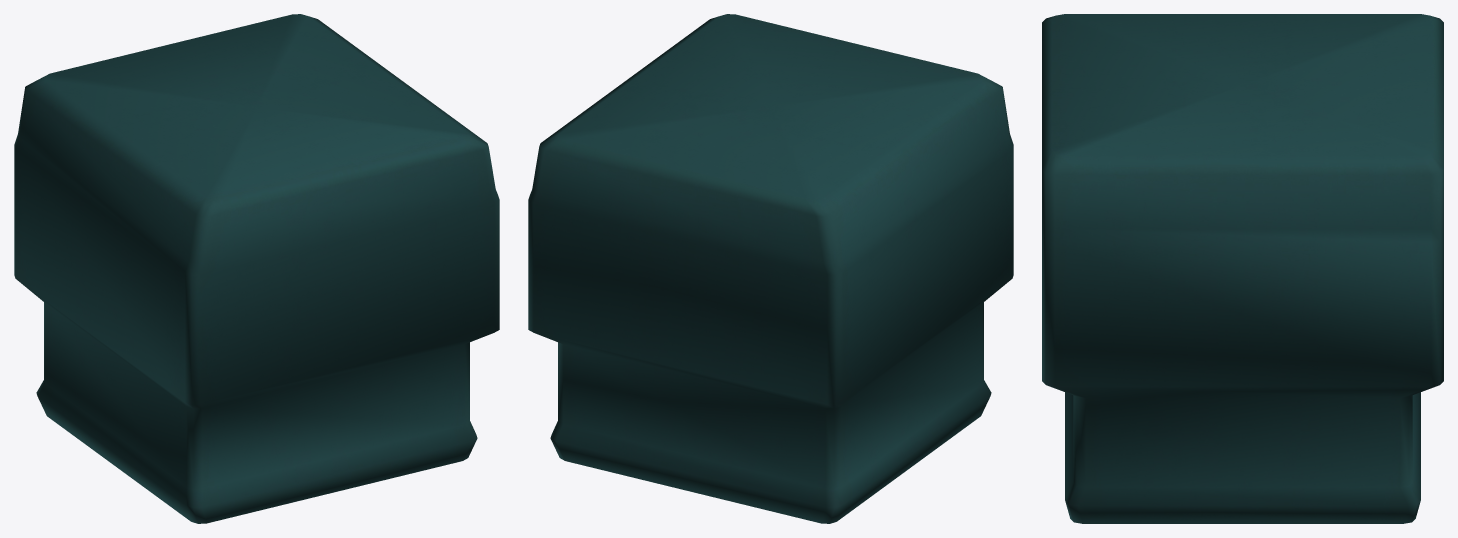
File: machine-packer-unit-tripo-original.glb
3 renders of one model, left to right at view 1: azimuth 30°, elevation 25°; view 2: azimuth 150°, elevation 25°; view 3: azimuth 270°, elevation 25°, orthographic. The views are drawn at different scales.
Parts seen in each view (by area): view 1: Authored_surface; view 2: Authored_surface; view 3: Authored_surface.
Part boxes in pixels (bbox=[...]): Authored_surface: bbox=[14, 14, 499, 523]; Authored_surface: bbox=[528, 14, 1013, 523]; Authored_surface: bbox=[1042, 14, 1443, 523].
Bounding box in the file's own units: 1 × 1 × 1.
1 material, 1 textured.
